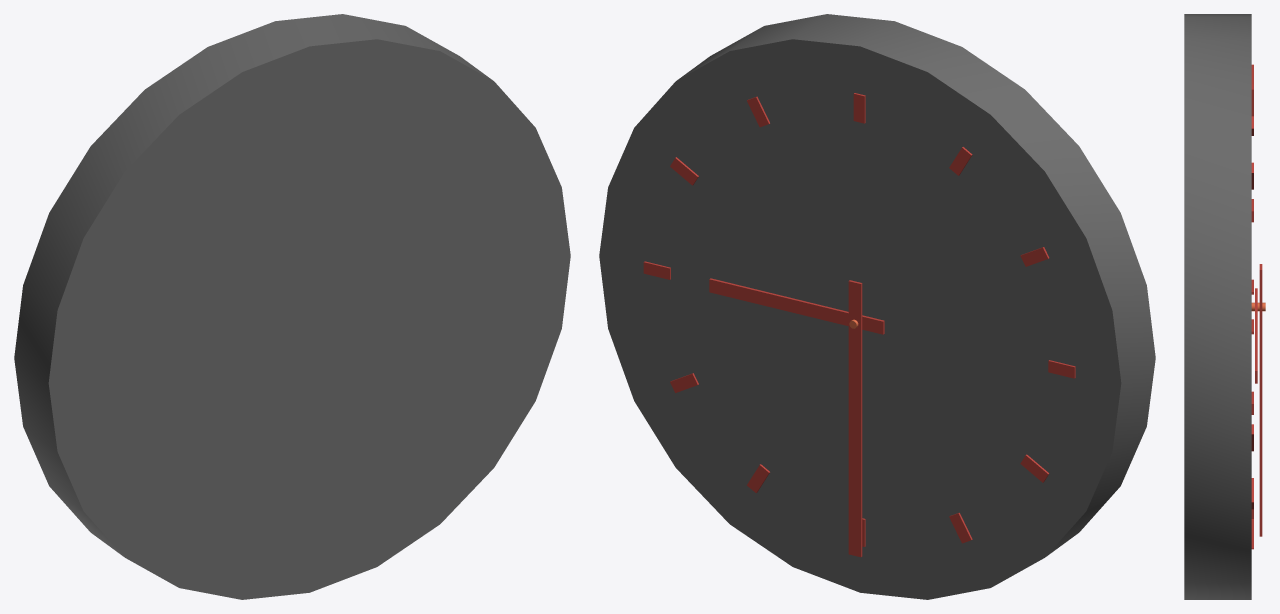
The model's file is Clocks.glb.
The picture shows the model from 3 angles, left to right: view 1: azimuth 30°, elevation 25°; view 2: azimuth 150°, elevation 25°; view 3: azimuth 270°, elevation 25°; orthographic projection. The views are drawn at different scales.
Visible parts, largest first — view 1: Clock; view 2: Clock, ArmMinutes, ArmHours; view 3: Clock, ArmMinutes, ArmHours.
Part boxes in pixels (<box>): Clock: <box>14,14,570,599</box>; Clock: <box>599,14,1155,599</box>; ArmMinutes: <box>848,280,862,557</box>; ArmHours: <box>709,278,884,334</box>; Clock: <box>1184,14,1251,599</box>; ArmMinutes: <box>1259,264,1262,536</box>; ArmHours: <box>1255,288,1257,383</box>.
Bounding box in the file's own units: 0.2625 × 0.2625 × 0.0362.
